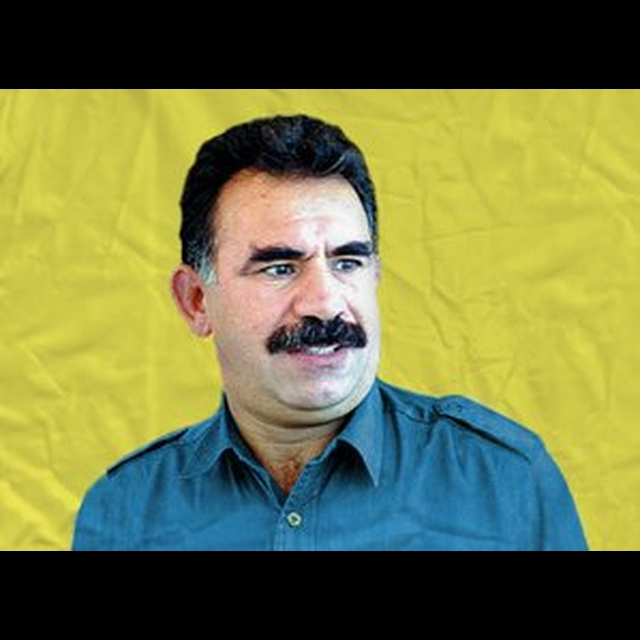APO: (160, 123, 416, 473)
